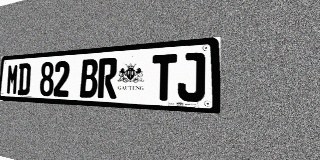2: (53, 60, 70, 97)
8: (39, 61, 55, 96)
B: (80, 59, 98, 98)
D: (17, 63, 31, 95)
J: (177, 52, 205, 102)
M: (6, 64, 19, 95)
R: (97, 57, 118, 99)
T: (152, 54, 177, 101)
